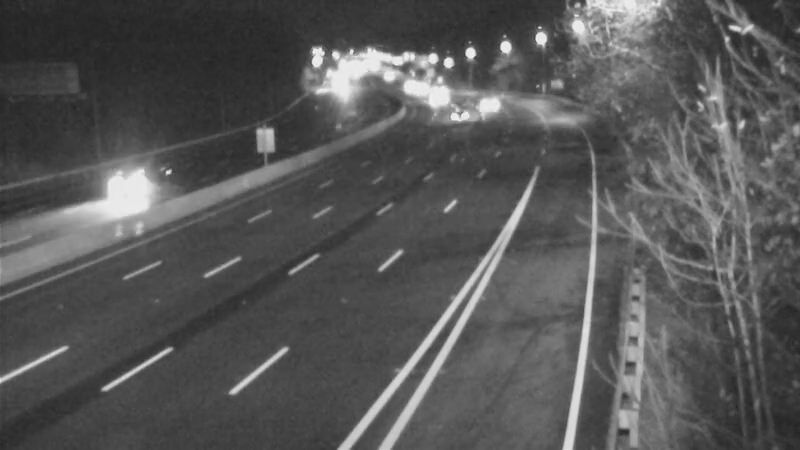vehicle: (98, 145, 178, 225), (385, 62, 435, 112), (395, 64, 445, 114), (413, 67, 463, 117), (416, 73, 466, 123), (464, 79, 514, 129), (439, 91, 489, 141)
